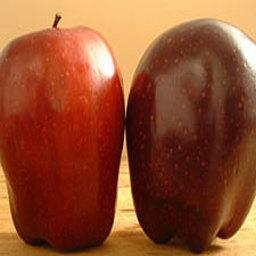apple: (123, 18, 255, 249), (1, 20, 128, 250)
